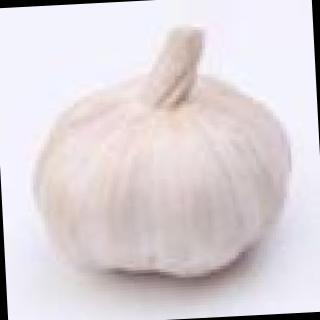Bawang Putih: (33, 23, 292, 289)
